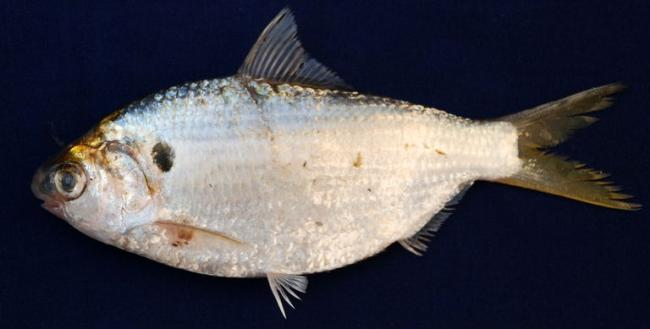fish: (31, 10, 636, 313)
